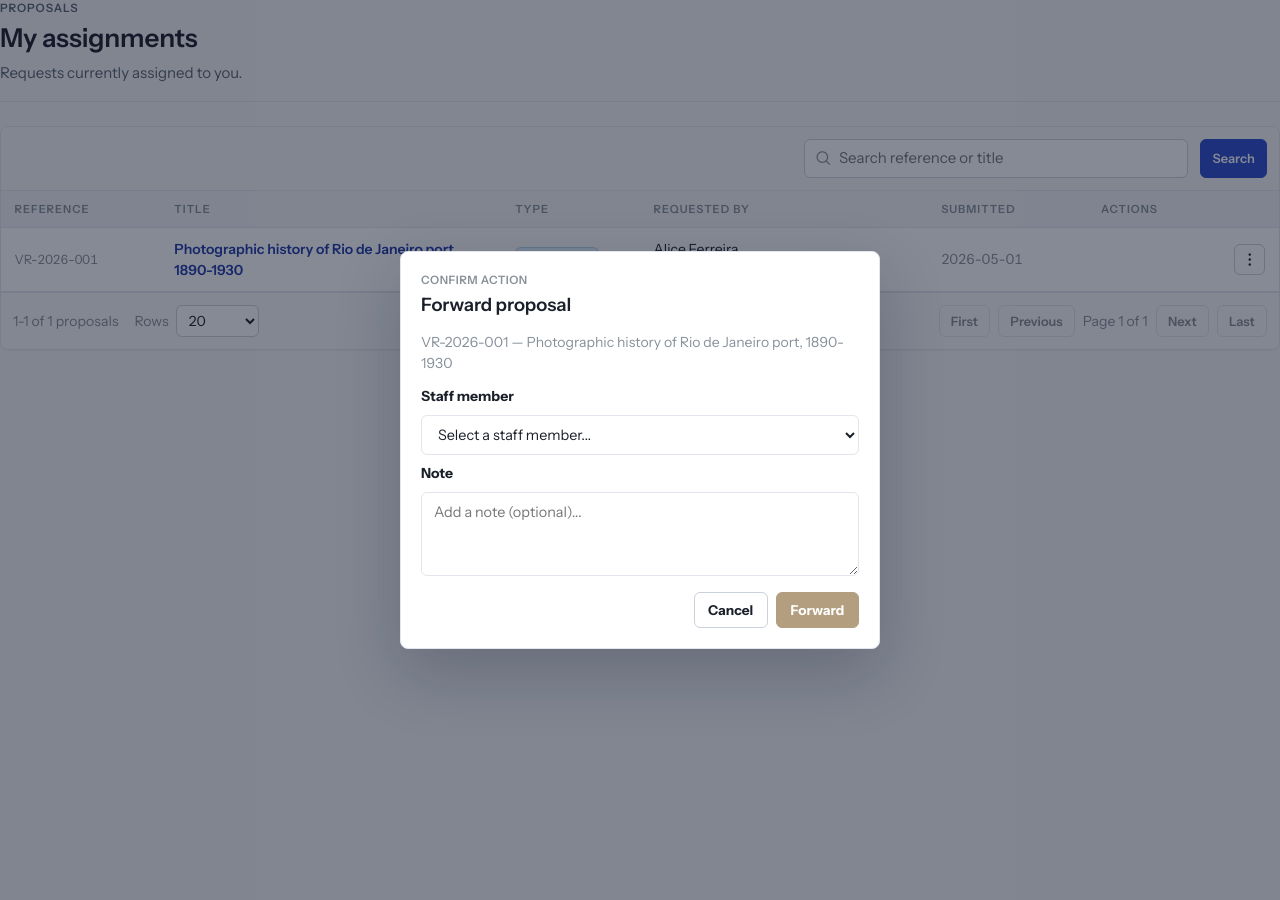
Test case: ProposalsMyAssignmentsPageComponent › forwards an assignment from the confirmation modal
The image size is (1280, 900).
Expected: the dialog is shown, [400,251,880,649]
Expected: the dialog shows "VR-2026-001", [421,333,844,372]
Select "Carol Lima — Curatorial" in the dropdown with id "forward-modal-target": (640, 435) [421,415,859,455]
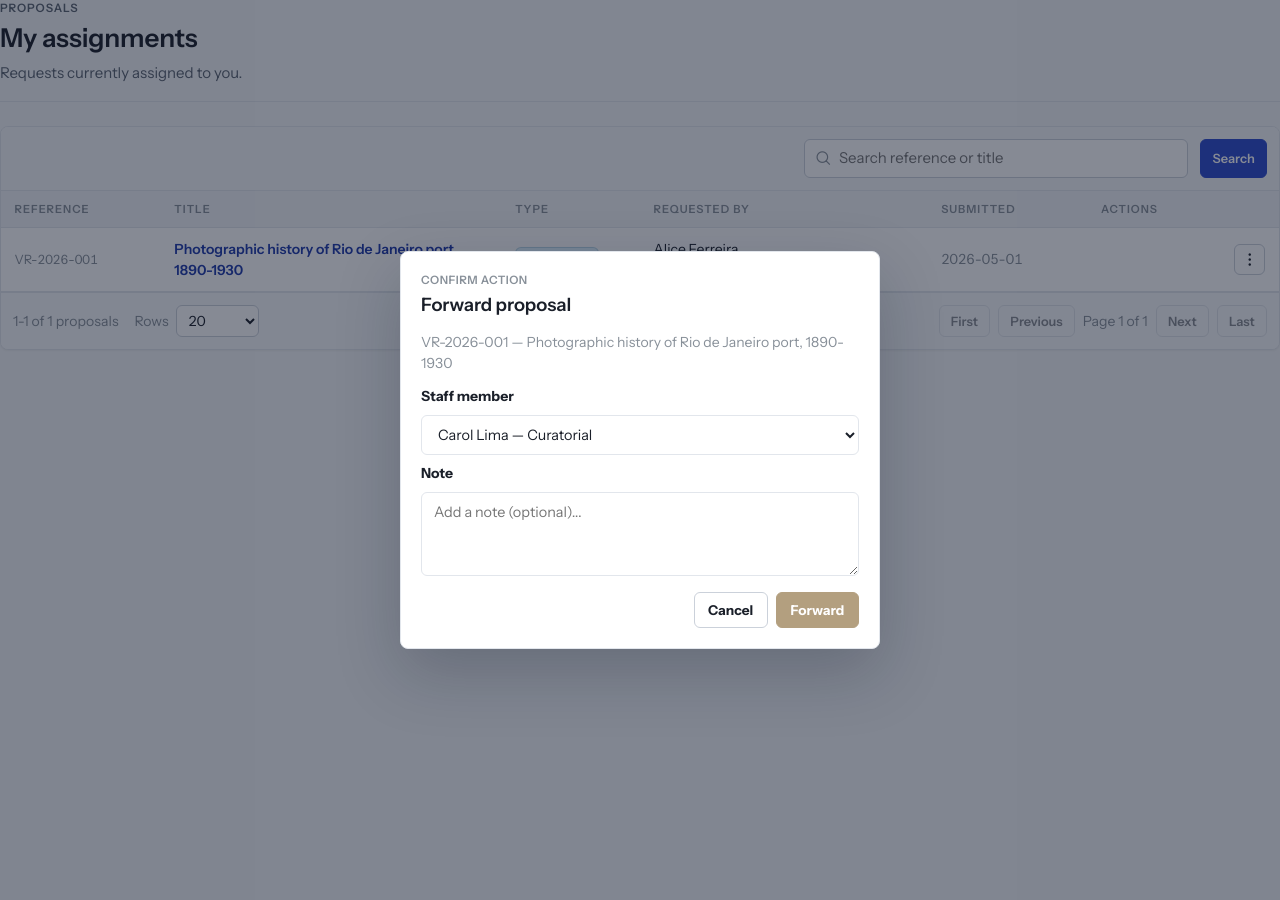
In the text box with id "forward-modal-note": (640, 534) [421,492,859,576], type "Please review the curatorial aspects."
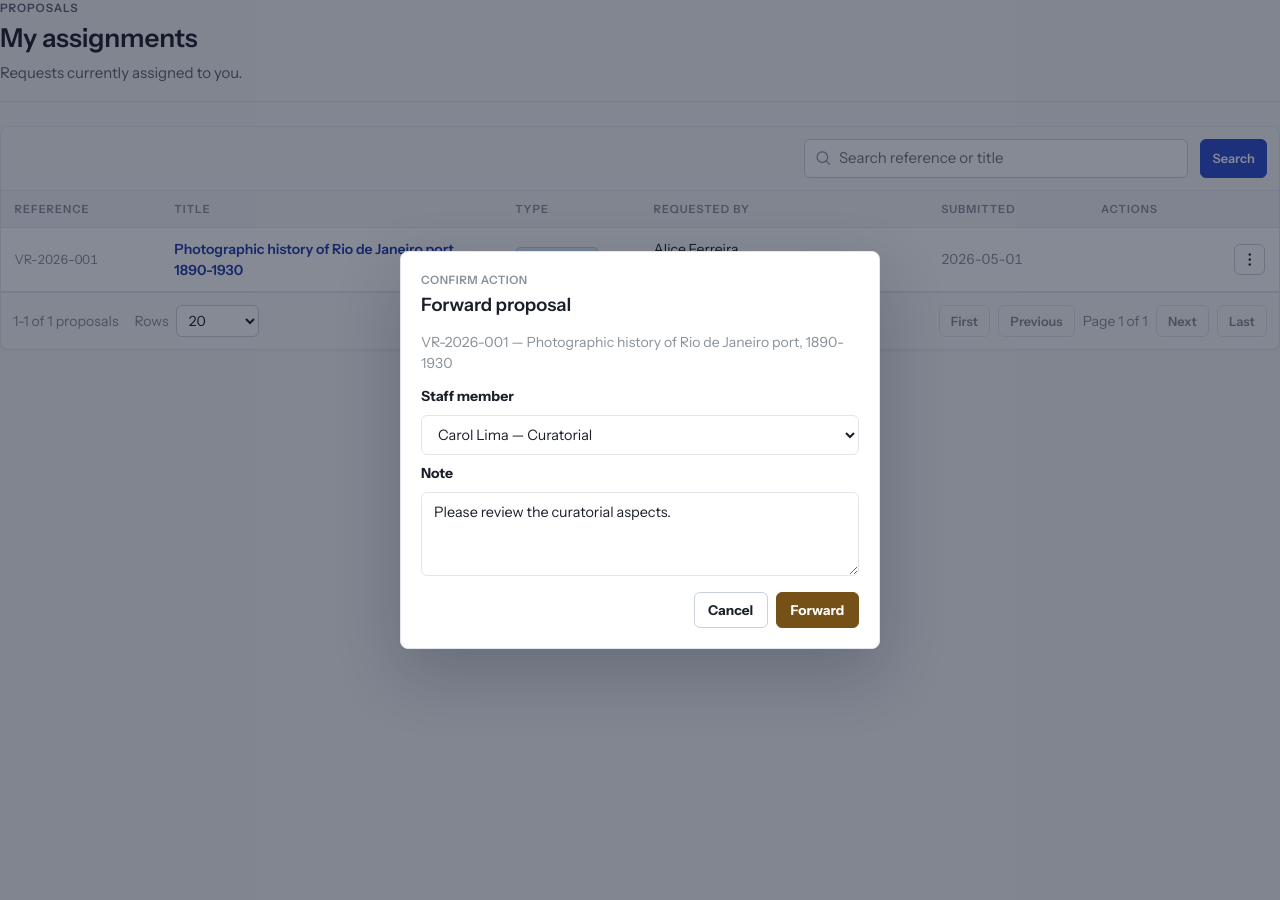
Expected: the button "Forward" is enabled
Click the button "Forward": (817, 610) [776,592,859,628]
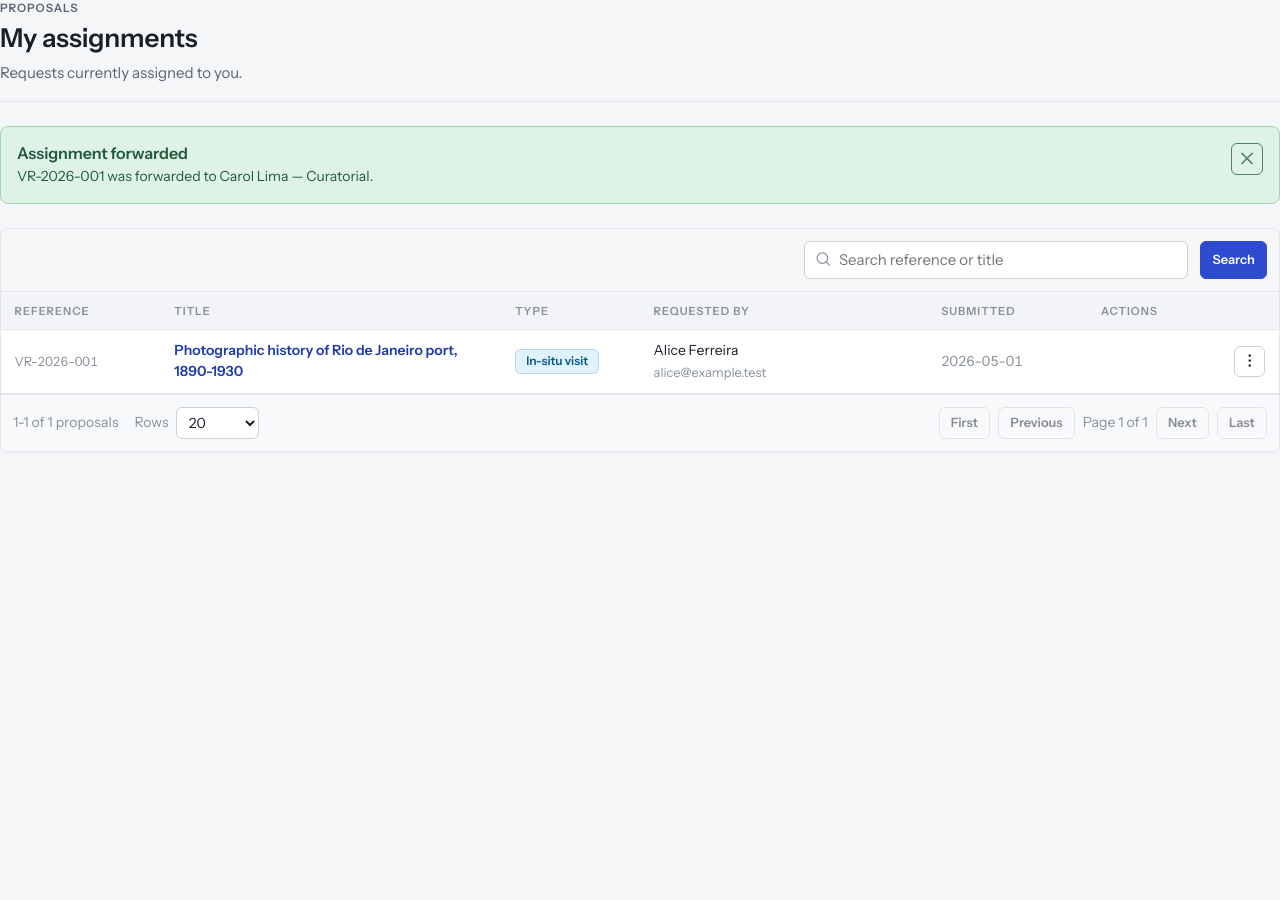
Expected: the text "Assignment forwarded" is shown, [17,143,188,163]
Expected: the text "VR-2026-001 was forwarded to Carol Lima" is shown, [17,167,373,185]
